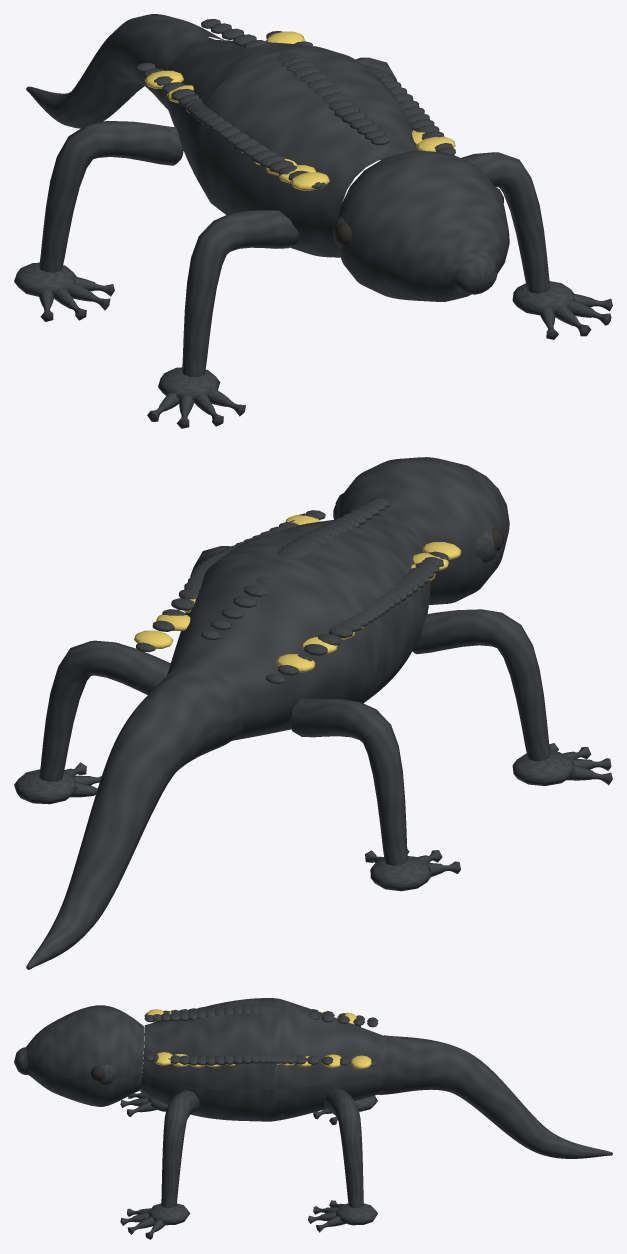
The model's file is birds-and-reptiles-hd-fire-salamander-2d00d08d__28105.glb.
3 views of the same model, one above another, from view 1: azimuth 30°, elevation 25°; view 2: azimuth 150°, elevation 25°; view 3: azimuth 270°, elevation 25° (orthographic). The views are drawn at different scales.
Visible parts, largest first — view 1: fire-salamander; view 2: fire-salamander; view 3: fire-salamander.
Part boxes in pixels (bbox=[...]): fire-salamander: bbox=[14, 14, 612, 428]; fire-salamander: bbox=[14, 457, 612, 969]; fire-salamander: bbox=[14, 998, 612, 1239].
Size of the model in its own units: 0.1519 by 0.0767 by 0.2597.
Materials: 3 (1 with a texture image).
